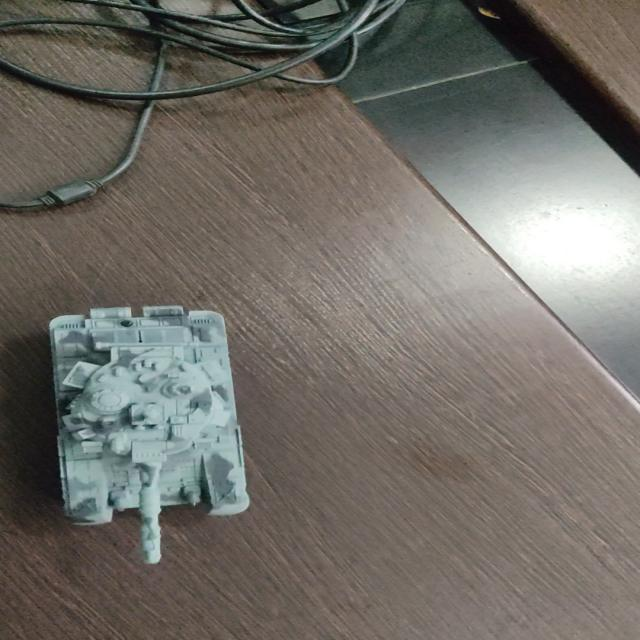tank: (45, 302, 256, 565)
